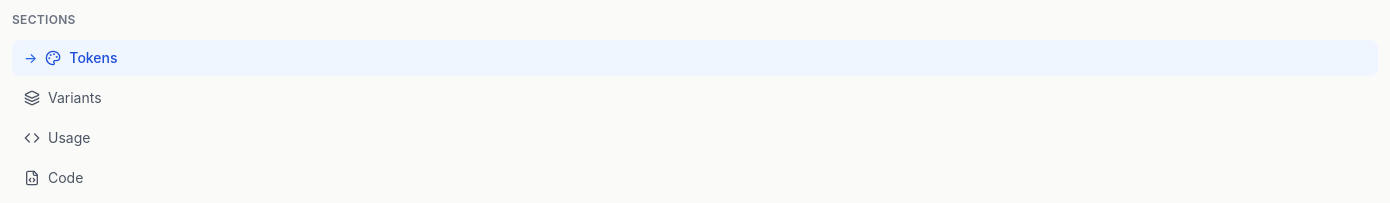
ReviewSectionsNav › changes active section on click
What coordinates should you click on to do the following:
click the button "Variants"
I would click on:
 (75, 98)
Its box is [12,80,1378,116].
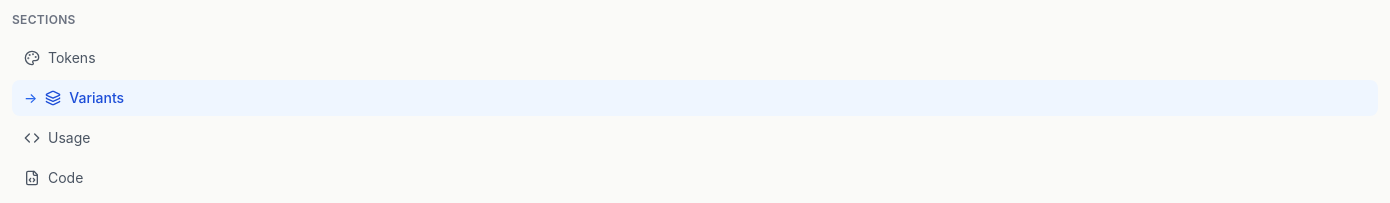
expect the button "→ Variants" is shown: met, box [12,80,1378,116]
